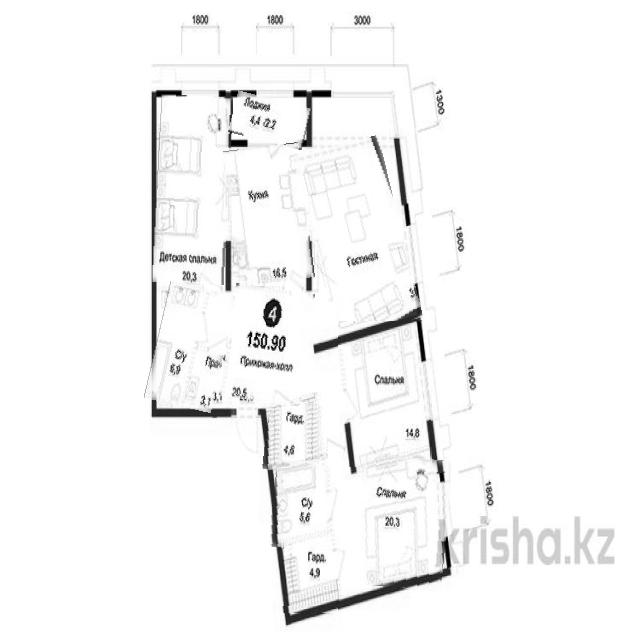balcony: (230, 95, 310, 146)
bathroom: (150, 284, 231, 410), (276, 466, 328, 548)
hallway: (224, 285, 312, 405)
kitchen: (228, 144, 312, 284)
living_room: (303, 139, 413, 334), (154, 95, 231, 285), (339, 322, 431, 467), (362, 460, 442, 586)
other: (282, 542, 339, 613), (270, 404, 320, 471)
